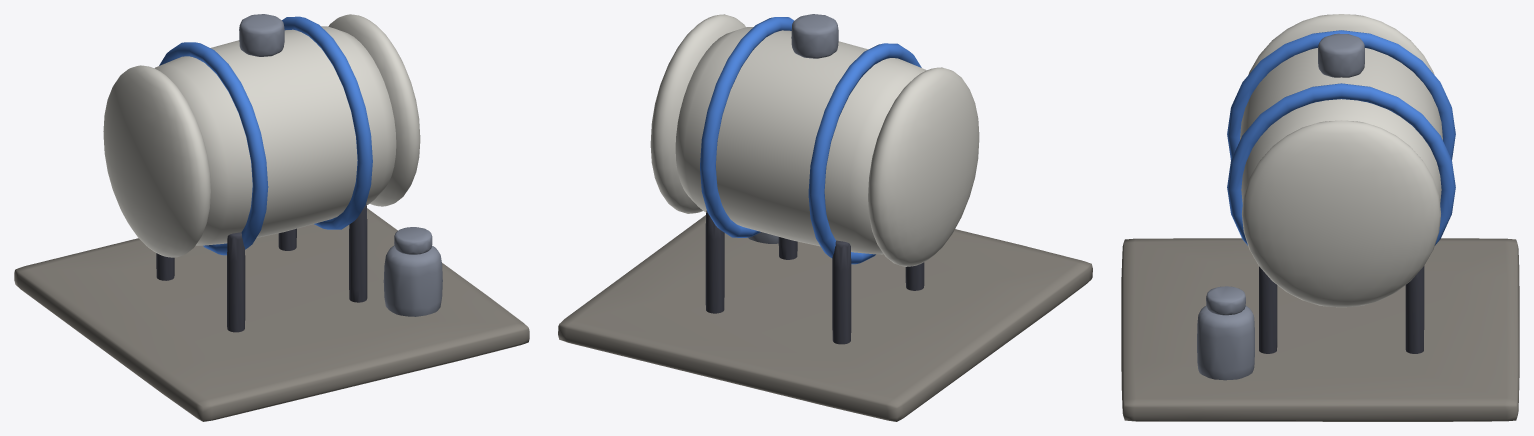
File: Milchtank.fbx
The picture shows the model from 3 angles, left to right: view 1: azimuth 30°, elevation 25°; view 2: azimuth 150°, elevation 25°; view 3: azimuth 270°, elevation 25°; orthographic projection. The views are drawn at different scales.
Parts seen in each view (by area): view 1: Milchtank; view 2: Milchtank; view 3: Milchtank.
Boxes of the visible parts, box(x1,y1,x2,y2) form: Milchtank: box(14, 14, 529, 421); Milchtank: box(558, 14, 1092, 421); Milchtank: box(1121, 14, 1519, 421).
Bounding box in the file's own units: 1.9 × 1.58 × 1.9.
